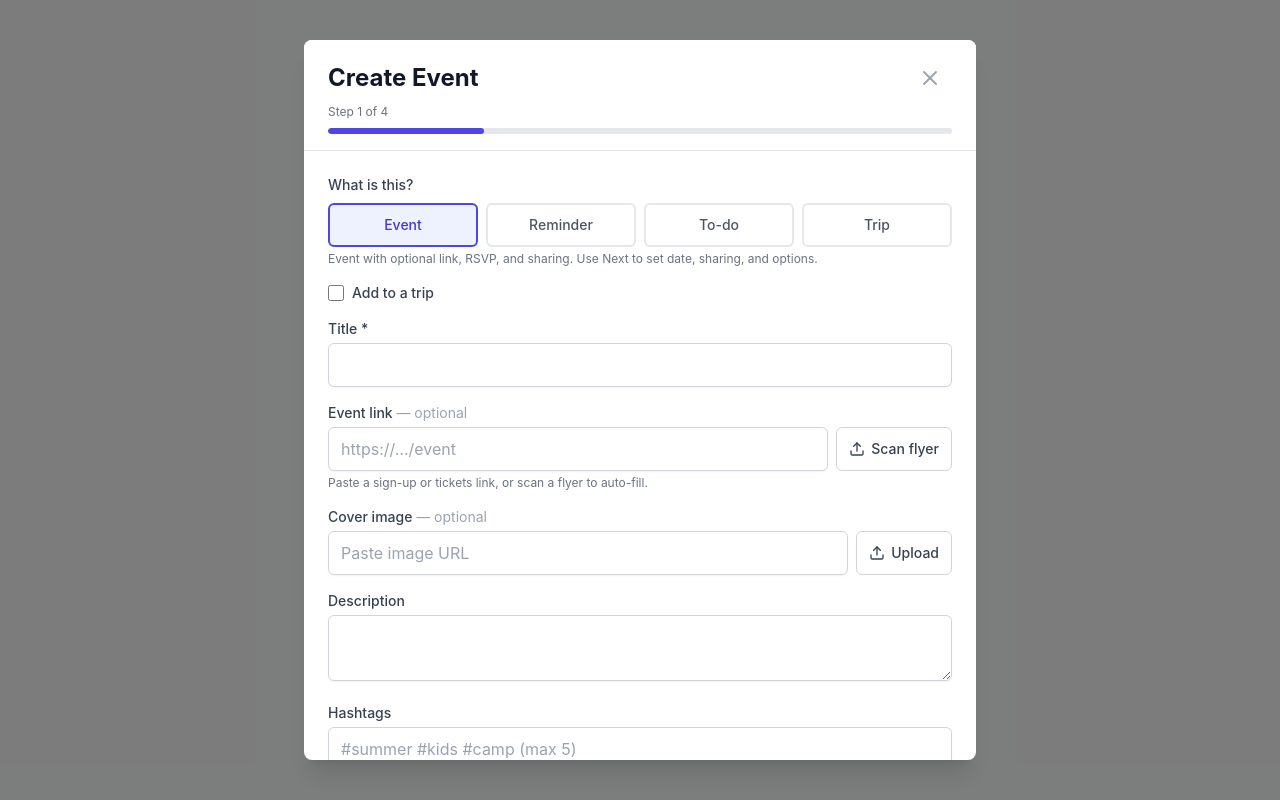
it: EventForm – smart defaults & validation › does not give a to-do an end field
Click the button "To-do". click: (719, 225)
box: x1=644 y1=203 x2=794 y2=247
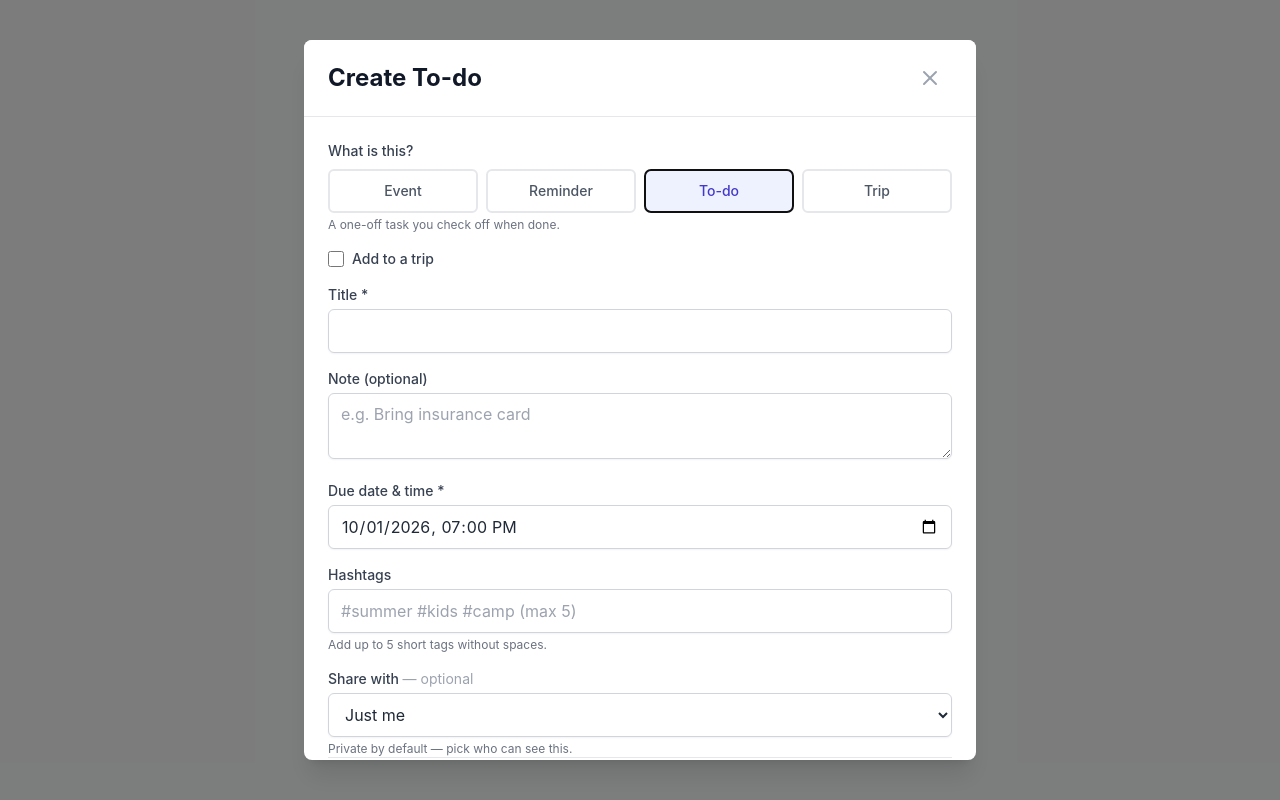
Expected: the field labelled "Due date & time *" is shown, x1=328 y1=505 x2=952 y2=549
